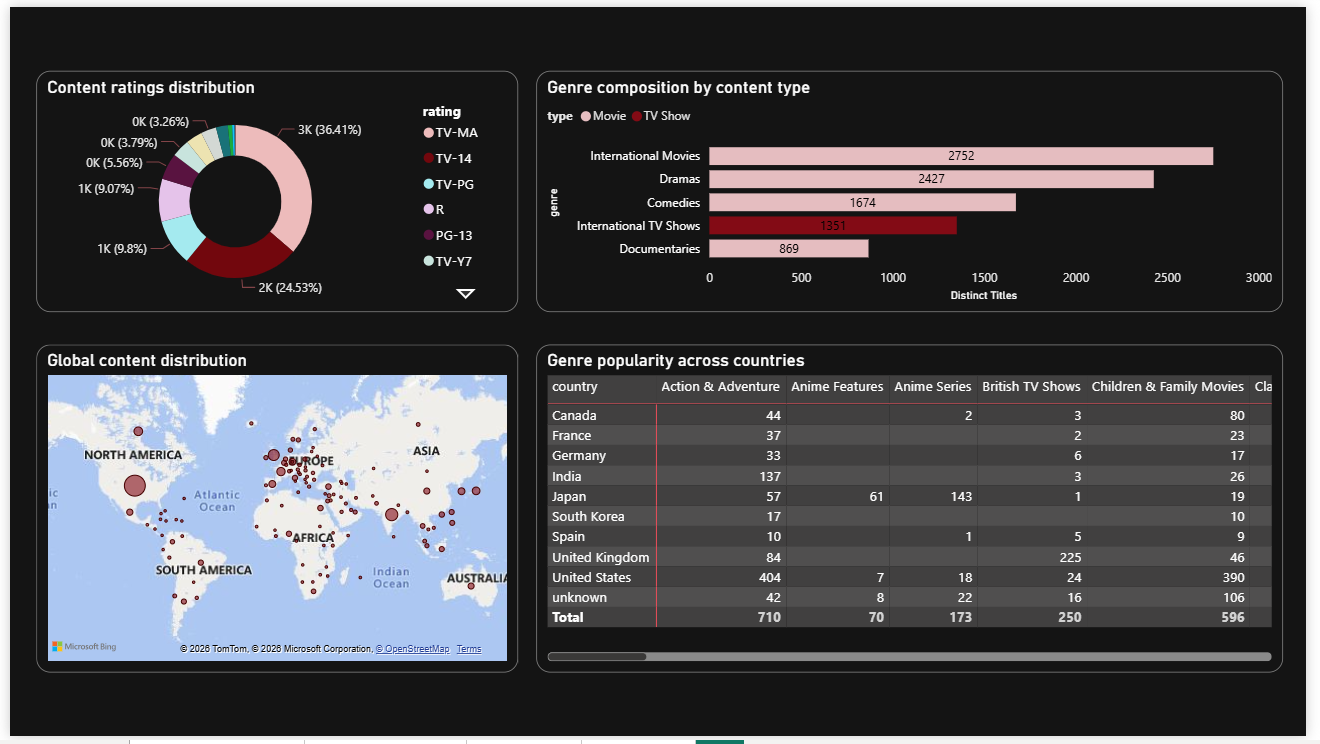

What the dashboard file says about the page in this screenshot:
{"tool":"powerbi","page":{"name":"Content insights","canvas":[1280,720],"ordinal":1},"visuals":[{"type":"barChart","title":"Genre composition by content type","fields":{"Category":["netflix_final.genre"],"Y":["netflix_final.Distinct Titles"],"Series":["netflix_final.type"]},"box":[520,62.7,737.3,238.7],"z":0},{"type":"donutChart","title":"Content ratings distribution","fields":{"Category":["netflix_final.rating"],"Y":["netflix_final.Distinct Titles"]},"box":[25.3,62.7,476,238.7],"z":1000},{"type":"map","title":"Global content distribution","fields":{"Category":["netflix_final.country"],"Size":["netflix_final.Distinct Titles"]},"box":[25.3,333.3,476,324],"z":2000},{"type":"pivotTable","title":"Genre popularity across countries","fields":{"Rows":["netflix_final.country"],"Columns":["netflix_final.genre"],"Values":["netflix_final.Distinct Titles"]},"box":[520,333.3,737.3,324],"z":3000}]}

Visuals, with their boxes in screenshot pixels (x1, y1, x2, y2), scaled from the page's 1280x720 canvas onto the 1320x744 screenshot:
"Genre composition by content type" barChart: (left=536, top=65, right=1297, bottom=311)
"Content ratings distribution" donutChart: (left=26, top=65, right=517, bottom=311)
"Global content distribution" map: (left=26, top=344, right=517, bottom=679)
"Genre popularity across countries" pivotTable: (left=536, top=344, right=1297, bottom=679)
